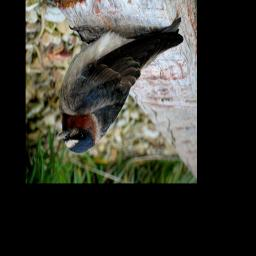Swallow: (54, 15, 186, 157)
